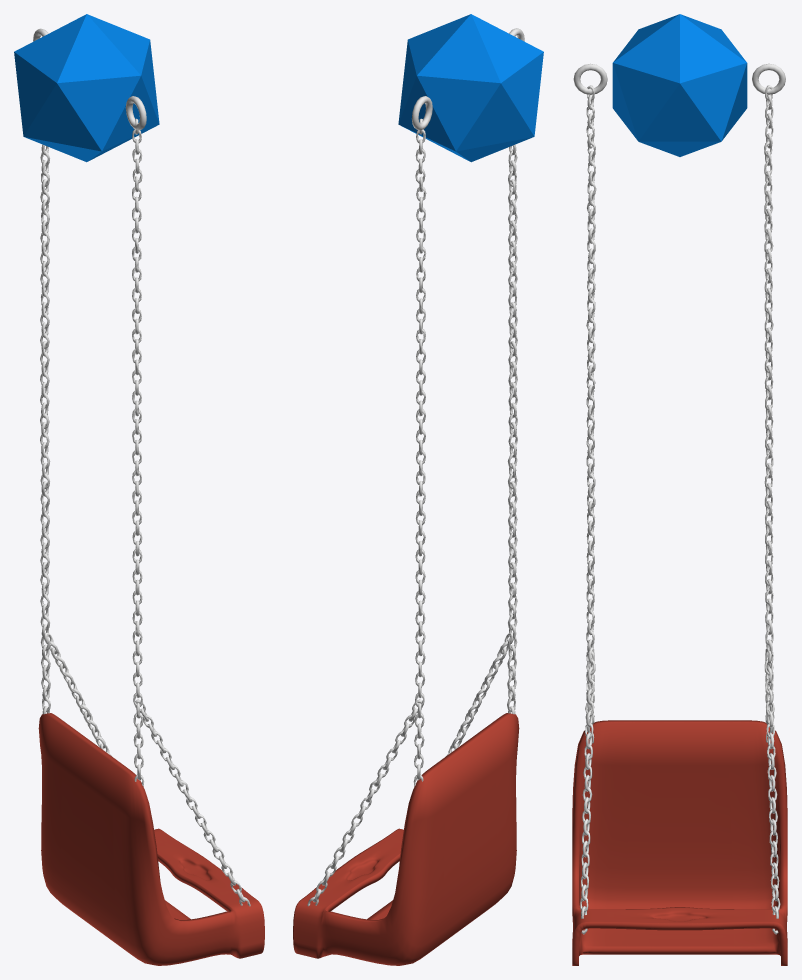
The model's file is Baby swing 8ft.glb.
The picture shows the model from 3 angles, left to right: view 1: azimuth 30°, elevation 25°; view 2: azimuth 150°, elevation 25°; view 3: azimuth 270°, elevation 25°; orthographic projection. The views are drawn at different scales.
Parts seen in each view (by area): view 1: Plane.039, Joint.039, Torus.009, Torus; view 2: Plane.039, Joint.039, Torus.009, Torus; view 3: Plane.039, Joint.039, Torus.009, Torus.
Boxes of the visible parts, x1,y1,x2,y2 form: Plane.039: (38,713,264,965); Joint.039: (14,14,159,162); Torus.009: (40,118,250,906); Torus: (33,28,146,130); Plane.039: (293,713,519,965); Joint.039: (398,14,543,162); Torus.009: (307,118,517,906); Torus: (411,28,524,130); Plane.039: (572,720,787,965); Joint.039: (612,14,747,156); Torus.009: (580,85,780,934); Torus: (573,63,785,94).
Size of the model in its own units: 0.4085 by 1.91 by 0.4157.
